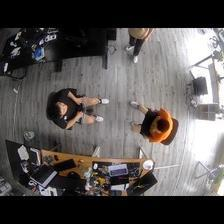normal: (44, 87, 111, 133), (128, 96, 181, 148)
